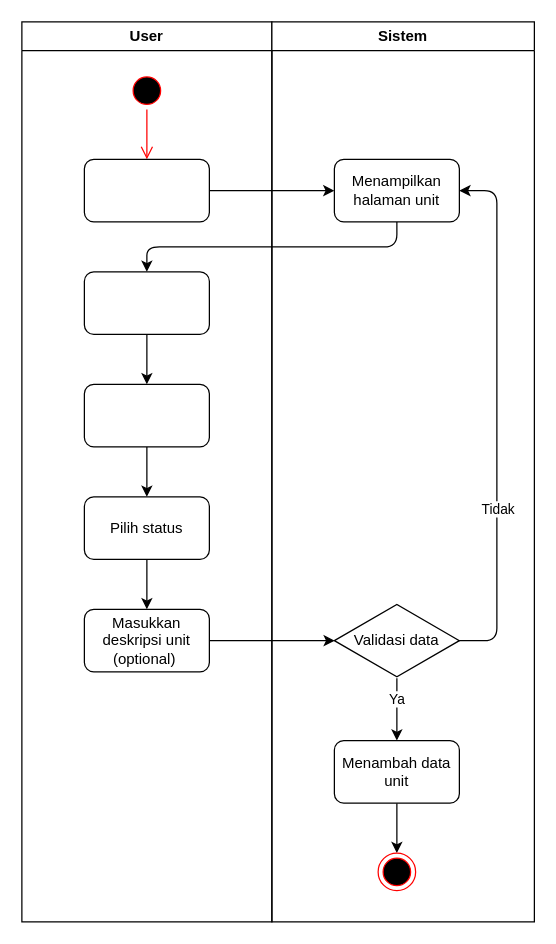
This 556x944 diagram has some shape labels left out. The shapes that lost their labels are listed below. From the top down, each one's centre as x and y in pixels, then its label:
At pixel 146 190: "Pilih fitur unit".
At pixel 146 302: "Masukkan nama unit".
At pixel 146 415: "Pilih tipe unit".
